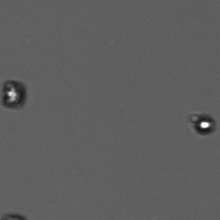Living Cell: (1, 80, 28, 108), (192, 111, 215, 135)
